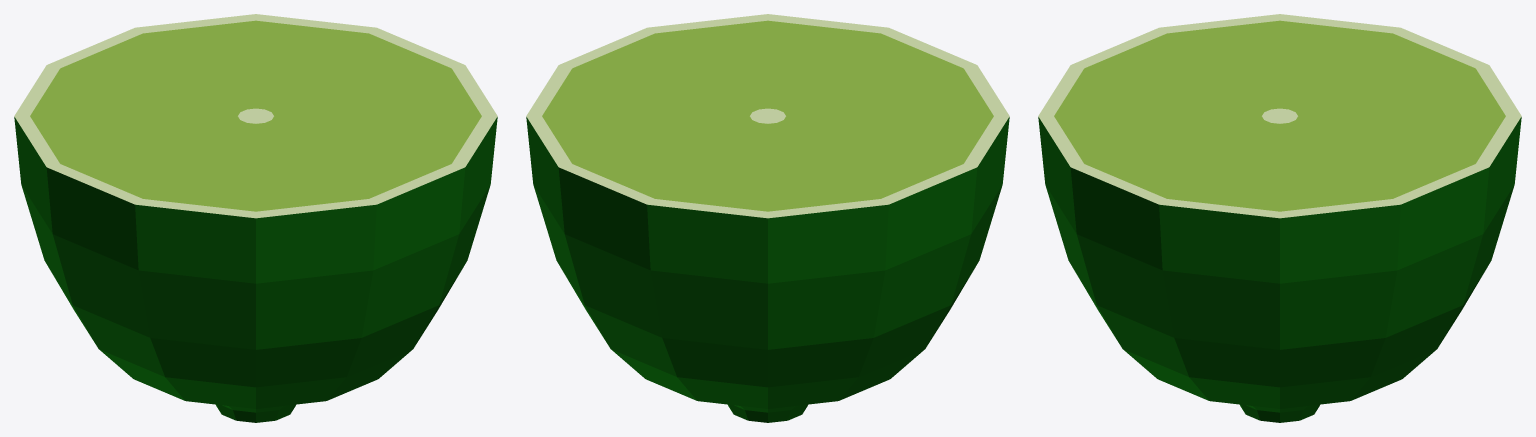
The model's file is onlylime.fbx.
3 renders of one model, left to right at view 1: azimuth 30°, elevation 25°; view 2: azimuth 150°, elevation 25°; view 3: azimuth 270°, elevation 25°, orthographic.
Parts seen in each view (by area): view 1: lime; view 2: lime; view 3: lime.
Boxes of the visible parts, x1=… form: lime: x1=14, y1=14, x2=497, y2=422; lime: x1=526, y1=14, x2=1009, y2=422; lime: x1=1038, y1=14, x2=1521, y2=422.
Bounding box in the file's own units: 167 × 115 × 167.
